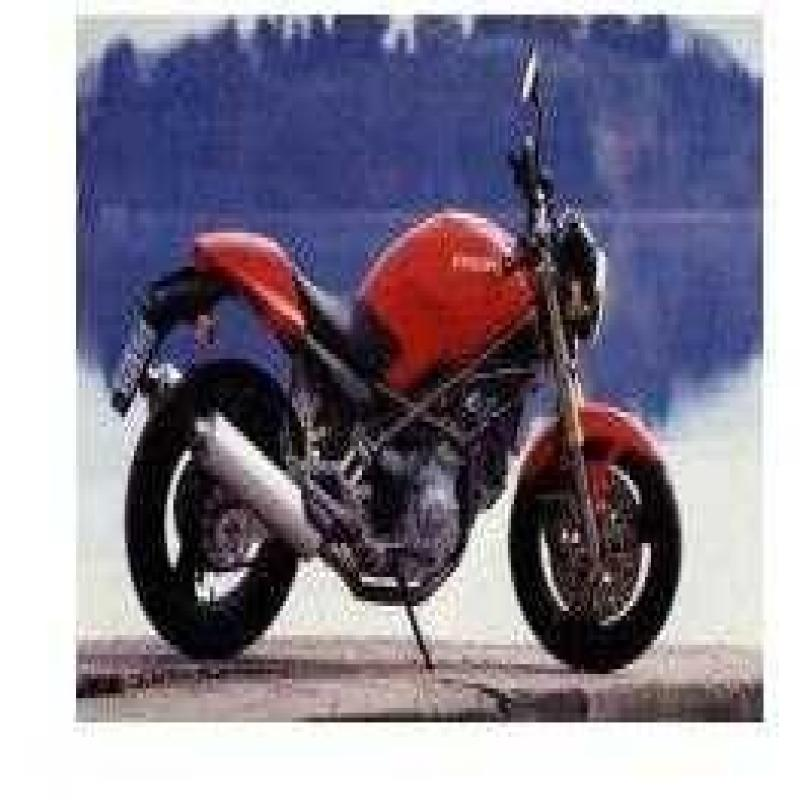bike: (109, 33, 696, 717)
